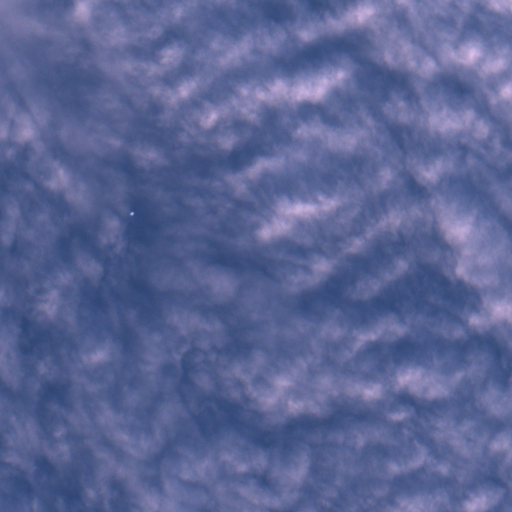Iceberg: (130, 212, 133, 215)
